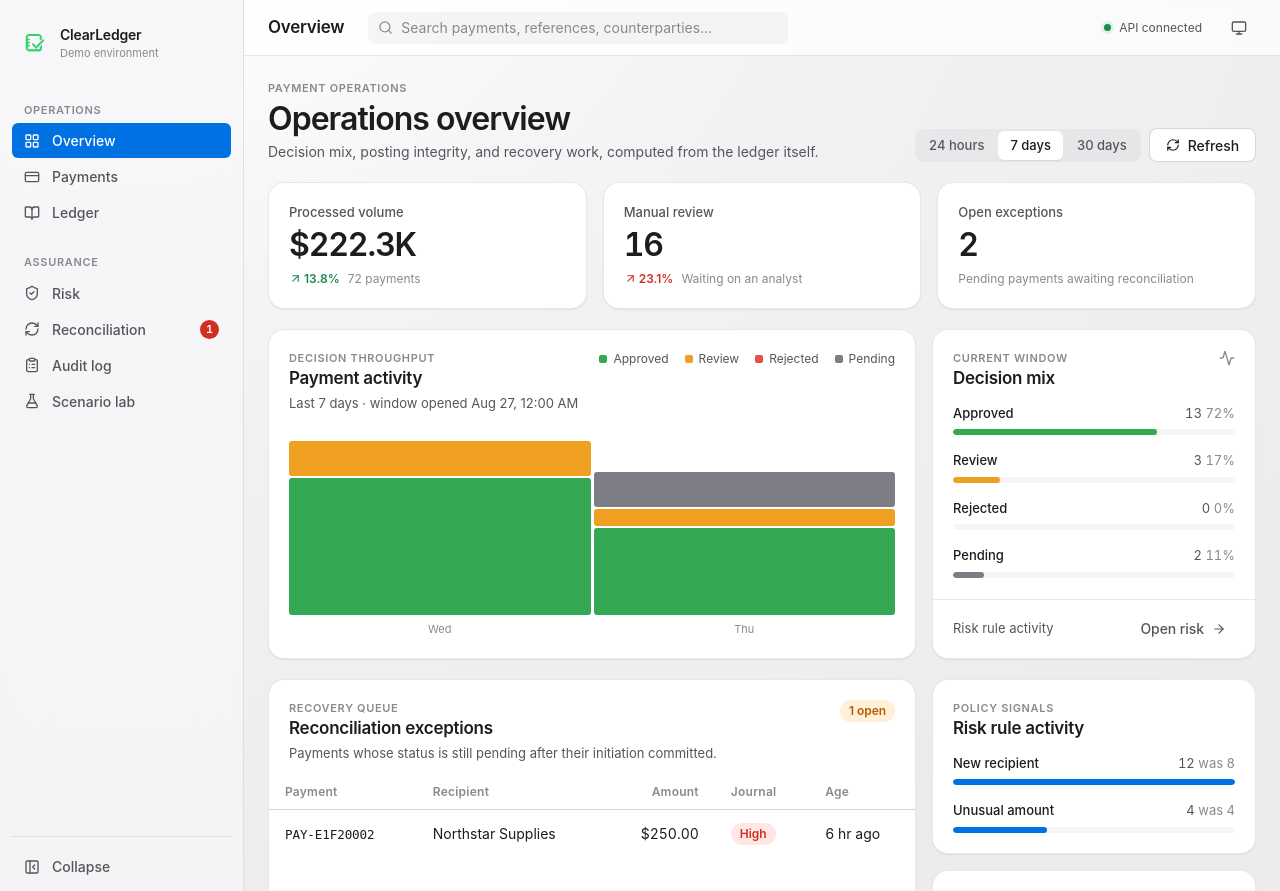
it: operations console › surfaces the compare-and-swap versions after a repair
Click the button "Reconciliation 1" at [122, 329], box [12, 312, 231, 346]
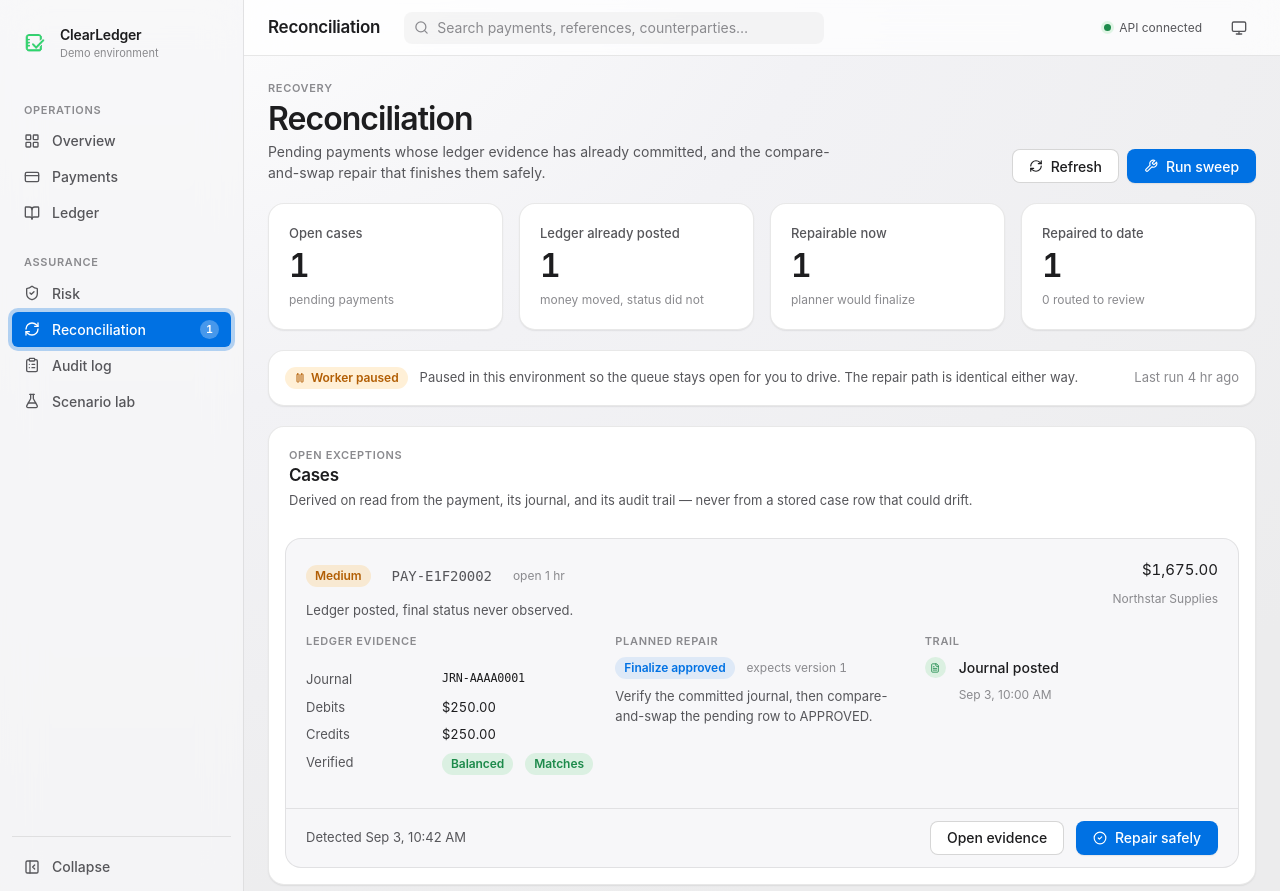
Click the button "Repair safely" at [1147, 838], box [1076, 821, 1218, 855]
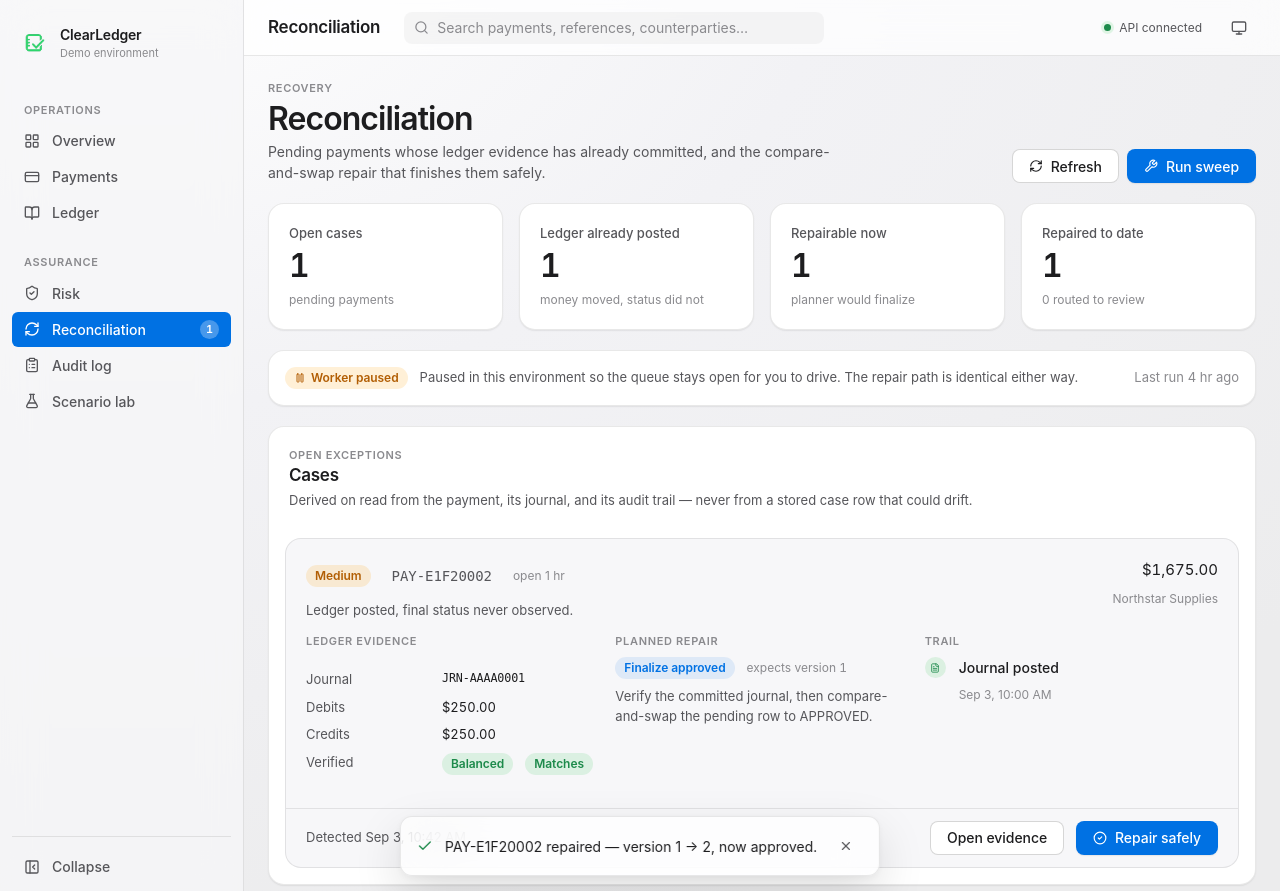
Now the text "PAY-E1F20002 repaired — version 1 → 2, now approved." is shown, box [445, 836, 817, 856]
